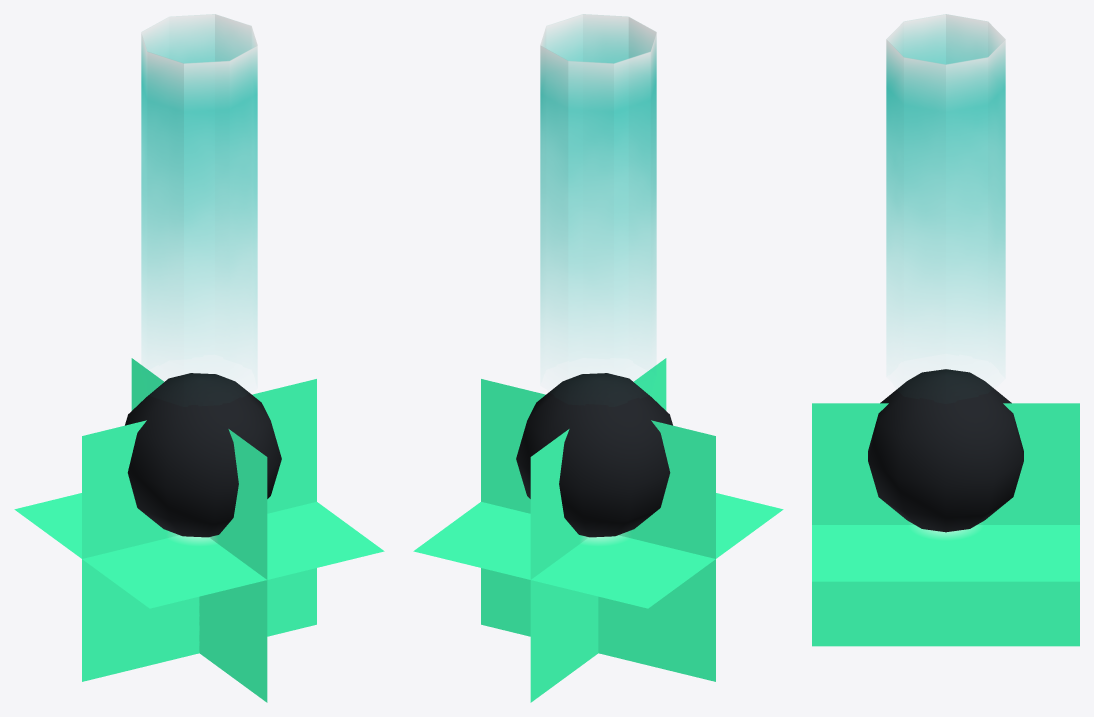
Rendered from fx_rain_cannon.glb.
3 views of the same model, side by side, from view 1: azimuth 30°, elevation 25°; view 2: azimuth 150°, elevation 25°; view 3: azimuth 270°, elevation 25° (orthographic).
Parts seen in each view (by area): view 1: fx_cannon_glow, fx_cannon_trail, fx_iron; view 2: fx_cannon_glow, fx_cannon_trail, fx_iron; view 3: fx_cannon_glow, fx_cannon_trail, fx_iron.
Boxes of the visible parts, bbox=[...] form: fx_cannon_glow: bbox=[14, 358, 384, 702]; fx_cannon_trail: bbox=[141, 14, 257, 340]; fx_iron: bbox=[125, 373, 281, 537]; fx_cannon_glow: bbox=[413, 358, 783, 702]; fx_cannon_trail: bbox=[540, 14, 656, 341]; fx_iron: bbox=[516, 373, 672, 537]; fx_cannon_glow: bbox=[812, 403, 1079, 646]; fx_cannon_trail: bbox=[886, 14, 1005, 336]; fx_iron: bbox=[868, 369, 1023, 532].
Bounding box in the file's own units: 1.8 × 4.5 × 1.8.
Materials: 3 (2 with a texture image).
